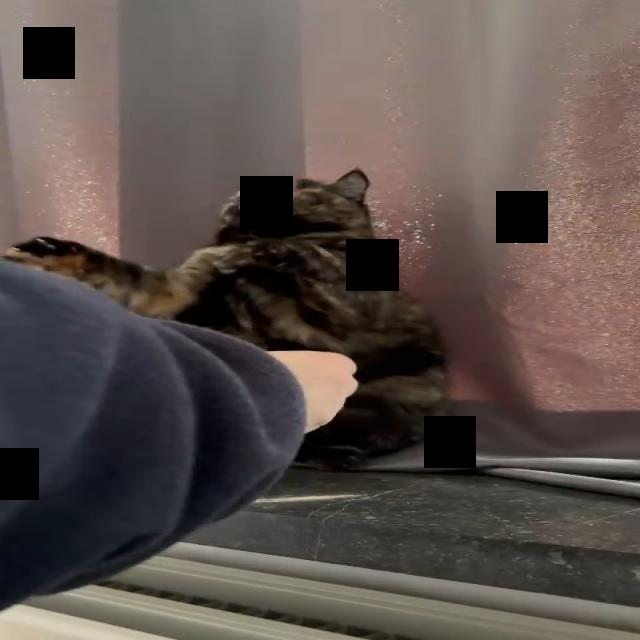authorized: (2, 167, 450, 471)
